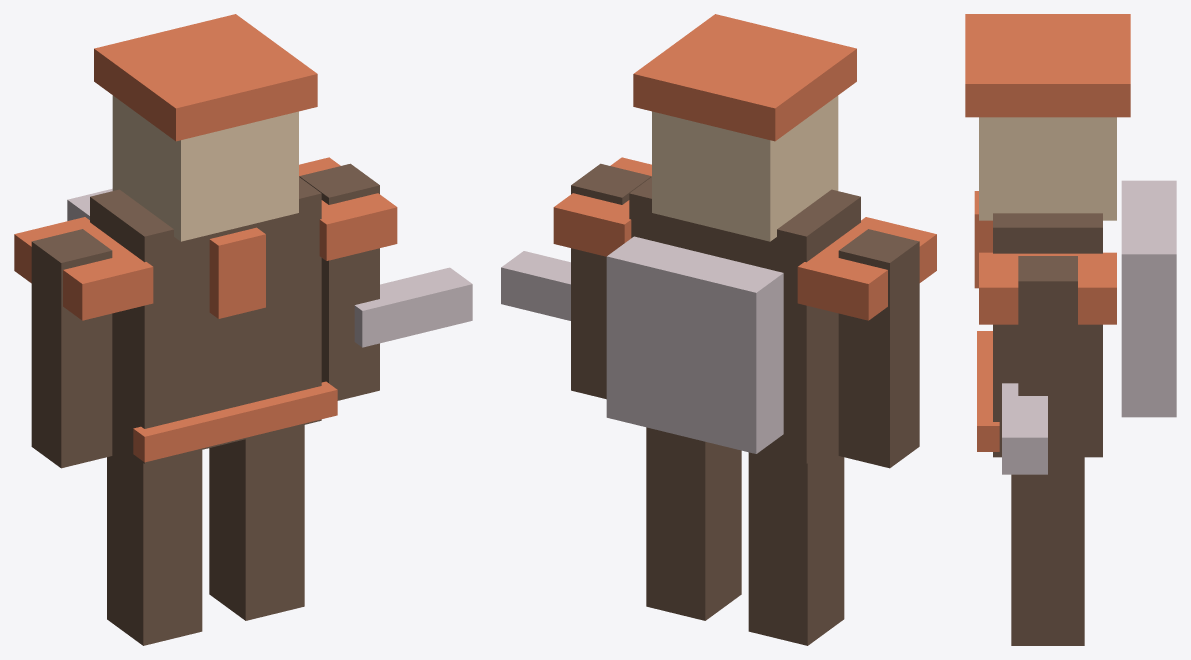
Rendered from 06_sarai_rootborne_smith_near_bitewheel.glb.
3 views of the same model, side by side, from view 1: azimuth 30°, elevation 25°; view 2: azimuth 150°, elevation 25°; view 3: azimuth 270°, elevation 25° (orthographic).
Visible parts, largest first — view 1: Sarai Rootborne, Smith near Bitewheel; view 2: Sarai Rootborne, Smith near Bitewheel; view 3: Sarai Rootborne, Smith near Bitewheel.
Boxes of the visible parts, bbox=[...] form: Sarai Rootborne, Smith near Bitewheel: bbox=[14, 14, 472, 645]; Sarai Rootborne, Smith near Bitewheel: bbox=[501, 14, 936, 645]; Sarai Rootborne, Smith near Bitewheel: bbox=[965, 14, 1176, 645].
Size of the model in its own units: 1.09 by 1.42 by 0.4886.
